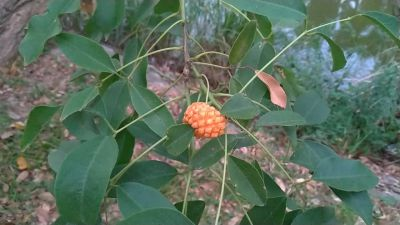eggs: (180, 100, 227, 139)
